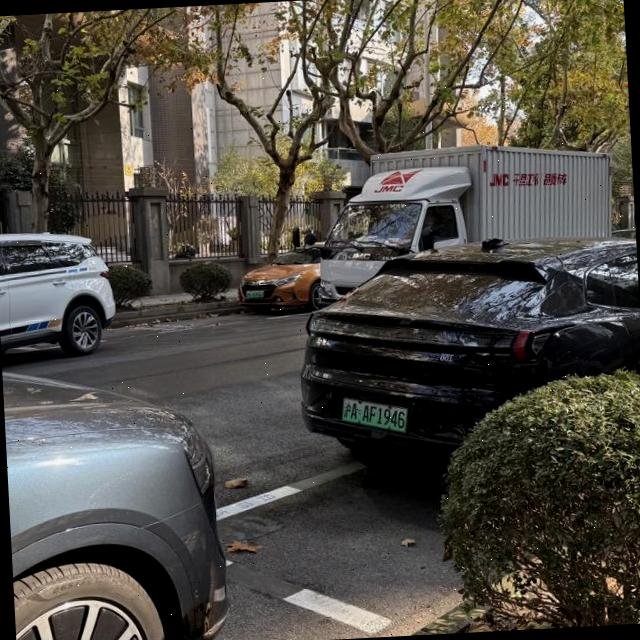curb: (376, 586, 461, 637), (107, 301, 240, 327)
